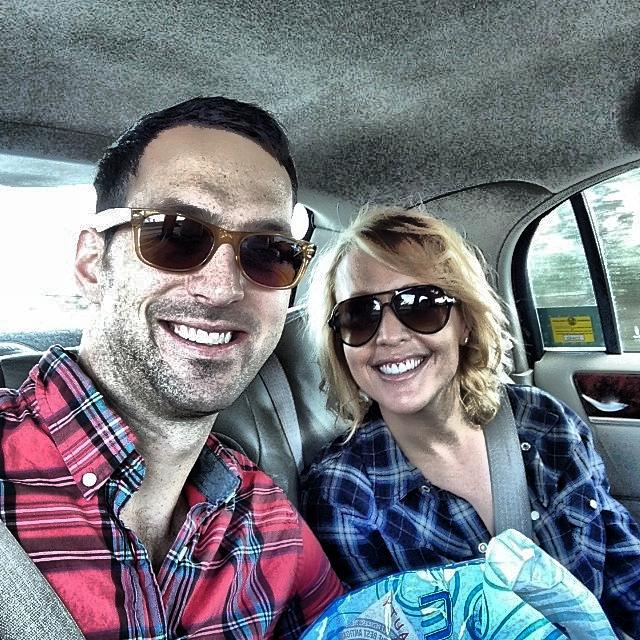seatbelt: (471, 338, 546, 640)
